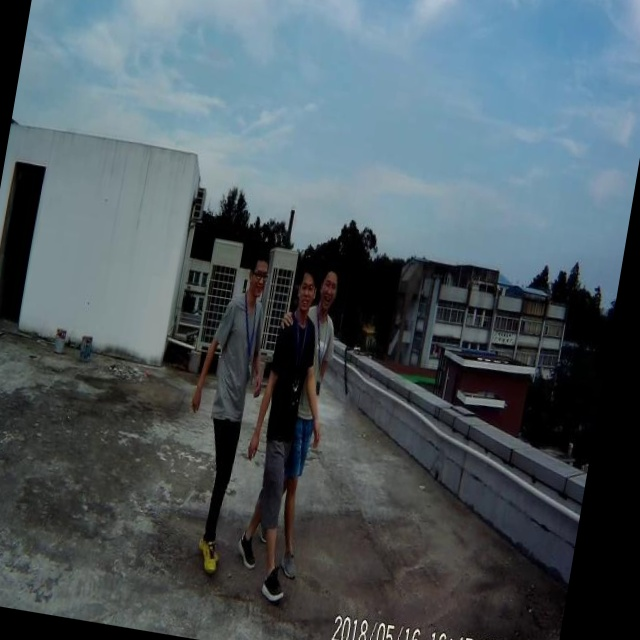Sin_Casco_Mascarrilla: (244, 245, 274, 301)
